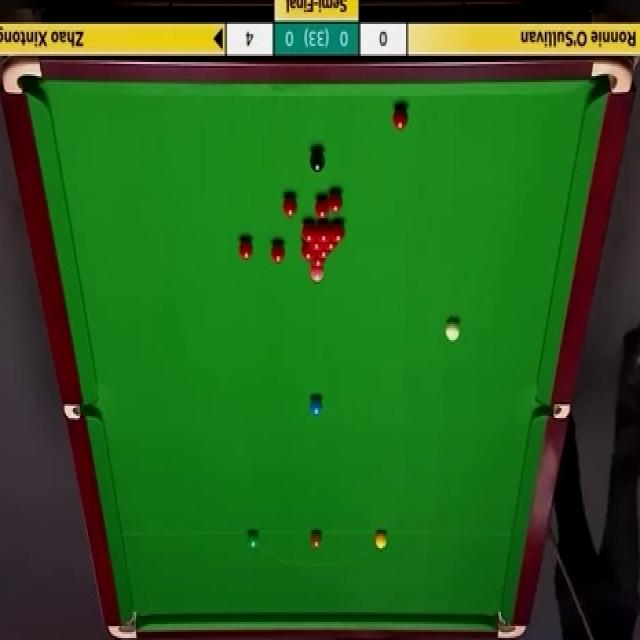black-ball: (308, 146, 325, 173)
blue-ball: (310, 398, 323, 418)
brown-ball: (310, 532, 322, 552)
green-ball: (246, 532, 260, 548)
pink-ball: (310, 266, 324, 283)
red-ball: (392, 106, 409, 132), (315, 195, 330, 221), (303, 218, 318, 244), (237, 236, 253, 260), (270, 243, 286, 265), (332, 218, 346, 242), (318, 222, 331, 246), (283, 196, 297, 218), (302, 239, 316, 260), (330, 192, 342, 216), (318, 240, 330, 258)
white-ball: (445, 318, 460, 340)
yellow-ball: (374, 532, 388, 549)
